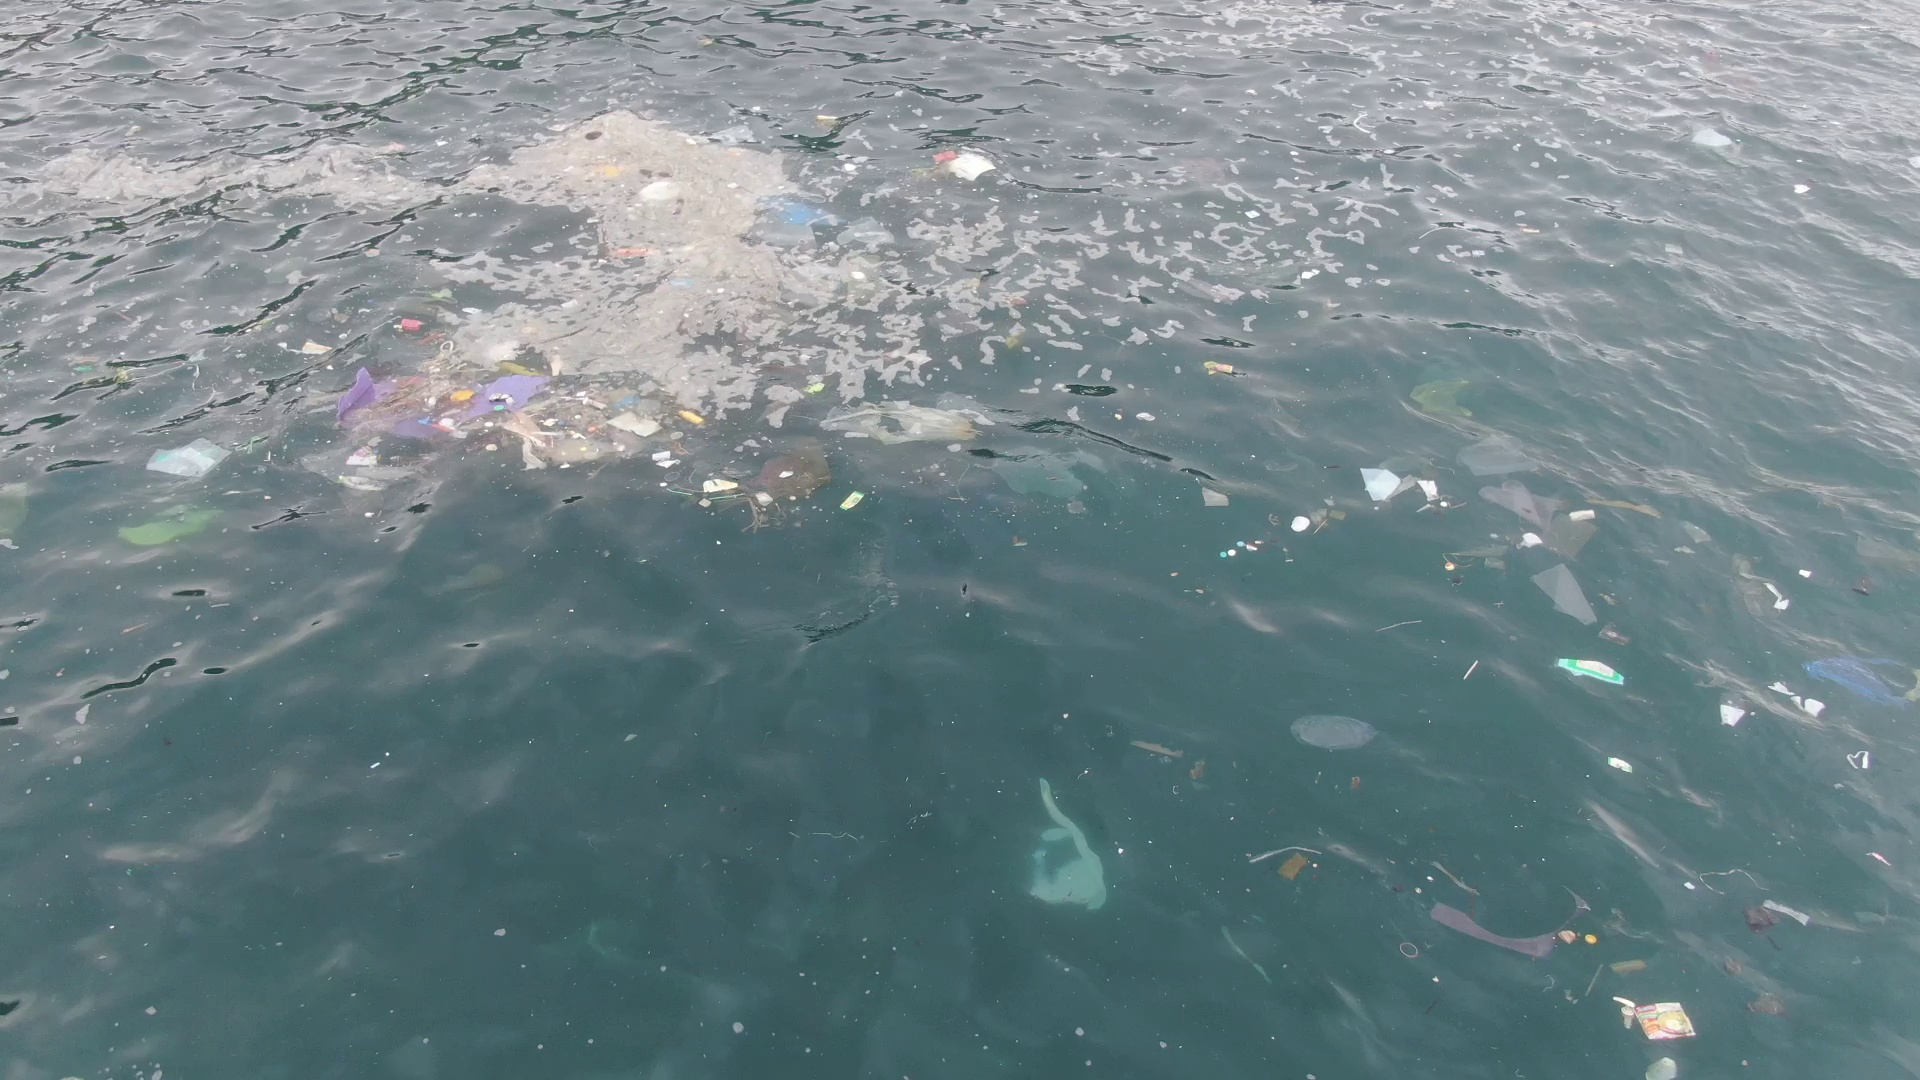garbage: (324, 365, 712, 469), (1448, 440, 1607, 632), (823, 397, 1089, 502), (1033, 779, 1106, 909), (707, 436, 832, 512), (1706, 676, 1822, 729), (760, 183, 844, 247), (1257, 840, 1379, 880), (117, 508, 223, 547), (1360, 467, 1453, 510), (392, 270, 460, 328), (1615, 996, 1695, 1042), (150, 440, 227, 483), (918, 146, 997, 183), (1296, 717, 1379, 752), (1749, 899, 1816, 940), (1412, 381, 1477, 419), (1561, 658, 1627, 690), (1294, 497, 1345, 535), (611, 243, 698, 260), (1220, 538, 1266, 560), (641, 179, 686, 202), (1695, 127, 1734, 152), (589, 154, 624, 182), (1203, 357, 1237, 382), (837, 491, 866, 509)
